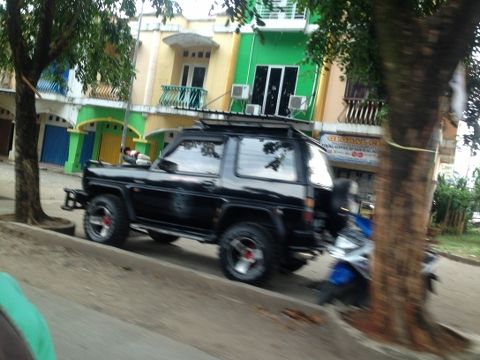mobil: (62, 118, 358, 284)
